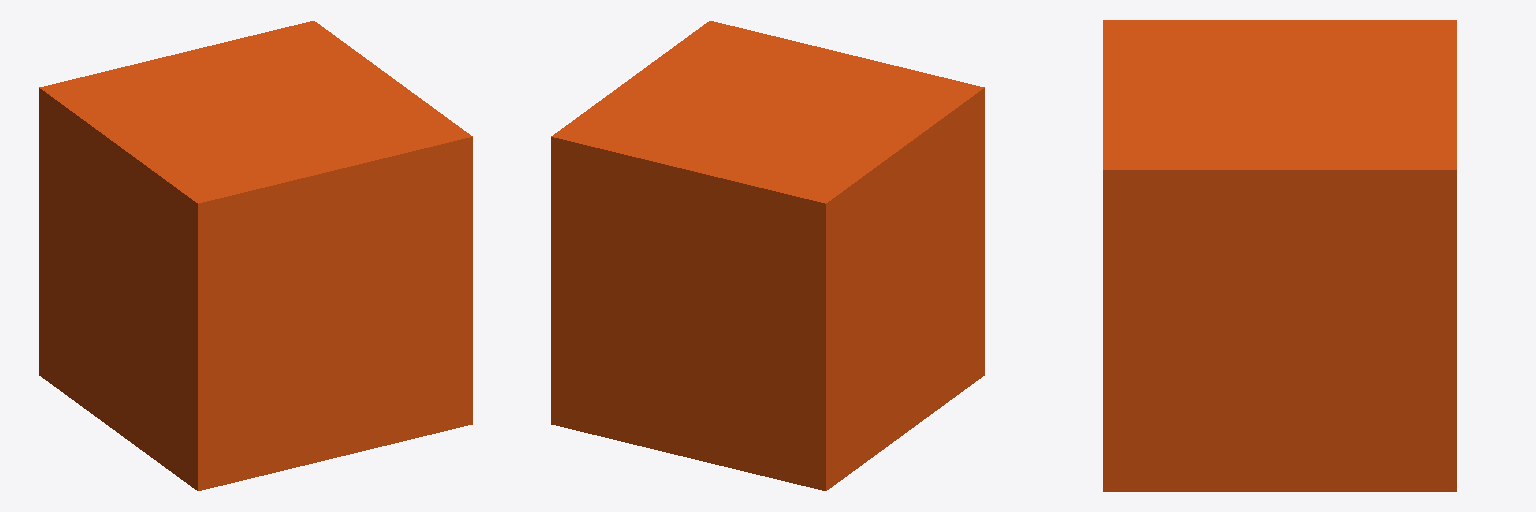
robot.urdf — random_box:
<?xml version='1.0' encoding='UTF-8'?>
<robot name="random_box">
  <link name="box">
    <visual>
      <geometry>
        <box size="0.05 0.05 0.05"/>
      </geometry>
      <material name="color">
        <color rgba="0.9085426836601094 0.4 0.13185783603897738 1"/>
      </material>
    </visual>
    <collision>
      <geometry>
        <box size="0.05 0.05 0.05"/>
      </geometry>
    </collision>
  </link>
</robot>

--- Facts derived from the render (not from the file) ---
The picture shows the robot from 3 angles, left to right: view 1: azimuth 30°, elevation 25°; view 2: azimuth 150°, elevation 25°; view 3: azimuth 270°, elevation 25°; orthographic projection.
Robot: random_box — 1 links, 0 joints (none); root link box; default pose: all joints at 0.
Visible links, largest first — view 1: box; view 2: box; view 3: box.
Link boxes in pixels (box(x1,y1,x2,y2)): box: box(39, 21, 472, 490); box: box(551, 21, 984, 490); box: box(1103, 20, 1456, 491).
Bounding box of the posed robot: 0.05 × 0.05 × 0.05 m (x, y, z).
Geometry: primitives only (box / cylinder / sphere), no mesh files.